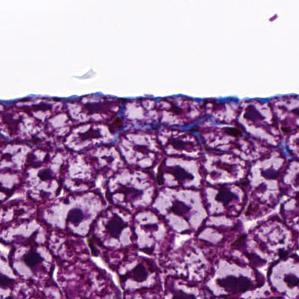inflammation: (44, 191, 105, 239), (153, 183, 208, 234), (63, 118, 116, 153)
